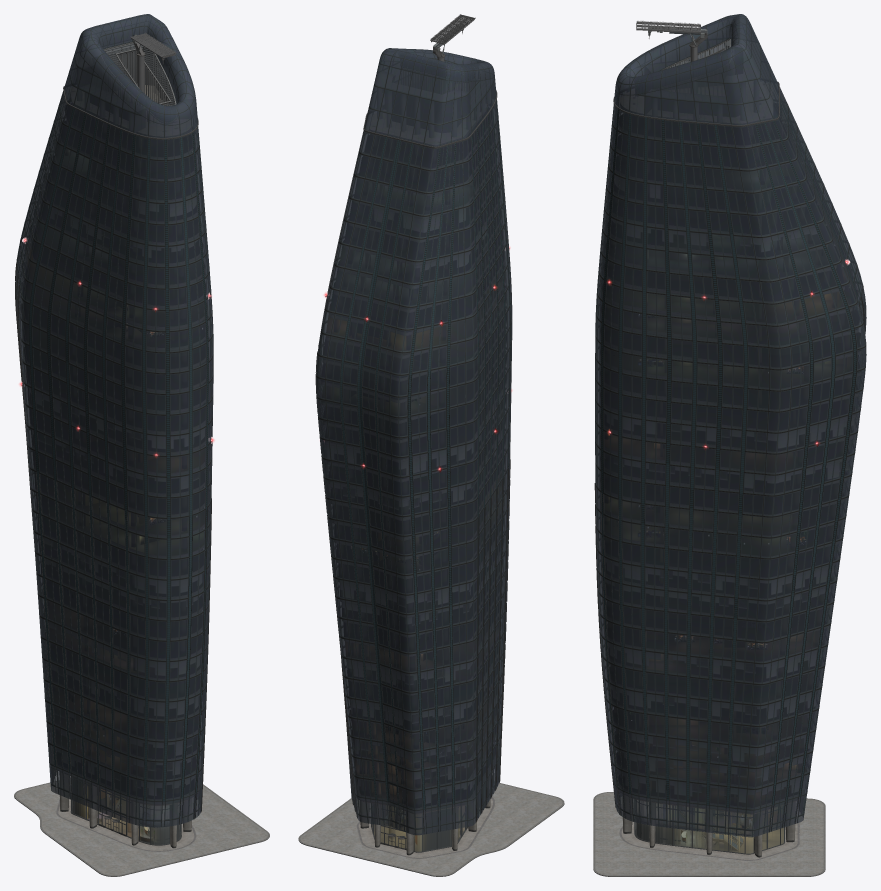
3 views of the same model, side by side, from view 1: azimuth 30°, elevation 25°; view 2: azimuth 150°, elevation 25°; view 3: azimuth 270°, elevation 25° (orthographic). The views are drawn at different scales.
Visible parts, largest first — view 1: Glass_Generic, Building_Facade.003, Interior_Top, Glass_Generic_More_Opaque, Building_Facade.008, Sidewalk_02, Building_Facade.007, Interior_Blinds, Top_Piece, Glass_Generic.001, Building_Facade.006, Sidewalk_01 (+5 smaller); view 2: Glass_Generic, Building_Facade.003, Interior_Top, Glass_Generic_More_Opaque, Building_Facade.007, Sidewalk_02, Building_Facade.008, Interior_Blinds, Top_Piece, Glass_Generic.001, Building_Facade.006, Sidewalk_01 (+5 smaller); view 3: Glass_Generic, Interior_Top, Building_Facade.003, Glass_Generic_More_Opaque, Interior_Blinds, Building_Facade.008, Sidewalk_02, Building_Facade.007, Top_Piece, Glass_Generic.001, Building_Facade.006, Sidewalk_01 (+8 smaller).
Boxes of the visible parts, bbox=[...] form: Glass_Generic: bbox=[15, 91, 213, 800]; Building_Facade.003: bbox=[15, 88, 213, 801]; Interior_Top: bbox=[21, 105, 208, 798]; Glass_Generic_More_Opaque: bbox=[64, 14, 197, 137]; Building_Facade.008: bbox=[21, 103, 205, 779]; Sidewalk_02: bbox=[16, 779, 267, 875]; Building_Facade.007: bbox=[15, 262, 211, 798]; Interior_Blinds: bbox=[26, 158, 205, 795]; Top_Piece: bbox=[70, 40, 195, 135]; Glass_Generic.001: bbox=[49, 764, 201, 827]; Building_Facade.006: bbox=[63, 14, 198, 139]; Sidewalk_01: bbox=[14, 781, 269, 876]; Glass_Generic: bbox=[316, 99, 512, 809]; Building_Facade.003: bbox=[316, 100, 512, 810]; Interior_Top: bbox=[321, 107, 506, 807]; Glass_Generic_More_Opaque: bbox=[364, 48, 496, 146]; Building_Facade.007: bbox=[315, 343, 510, 808]; Sidewalk_02: bbox=[300, 783, 562, 875]; Building_Facade.008: bbox=[321, 104, 506, 792]; Interior_Blinds: bbox=[326, 207, 502, 803]; Top_Piece: bbox=[370, 68, 494, 144]; Glass_Generic.001: bbox=[350, 742, 501, 835]; Building_Facade.006: bbox=[363, 48, 497, 148]; Sidewalk_01: bbox=[298, 783, 564, 876]; Glass_Generic: bbox=[595, 88, 866, 808]; Interior_Top: bbox=[600, 103, 860, 807]; Building_Facade.003: bbox=[595, 80, 866, 809]; Glass_Generic_More_Opaque: bbox=[614, 14, 778, 124]; Interior_Blinds: bbox=[604, 175, 854, 802]; Building_Facade.008: bbox=[600, 104, 861, 787]; Sidewalk_02: bbox=[595, 792, 823, 875]; Building_Facade.007: bbox=[594, 296, 864, 804]; Top_Piece: bbox=[620, 38, 772, 122]; Glass_Generic.001: bbox=[613, 783, 807, 837]; Building_Facade.006: bbox=[613, 14, 779, 126]; Sidewalk_01: bbox=[593, 792, 825, 876].
Bounding box in the file's own units: 37.24 × 167 × 50.93.
20 materials, 18 textured.
